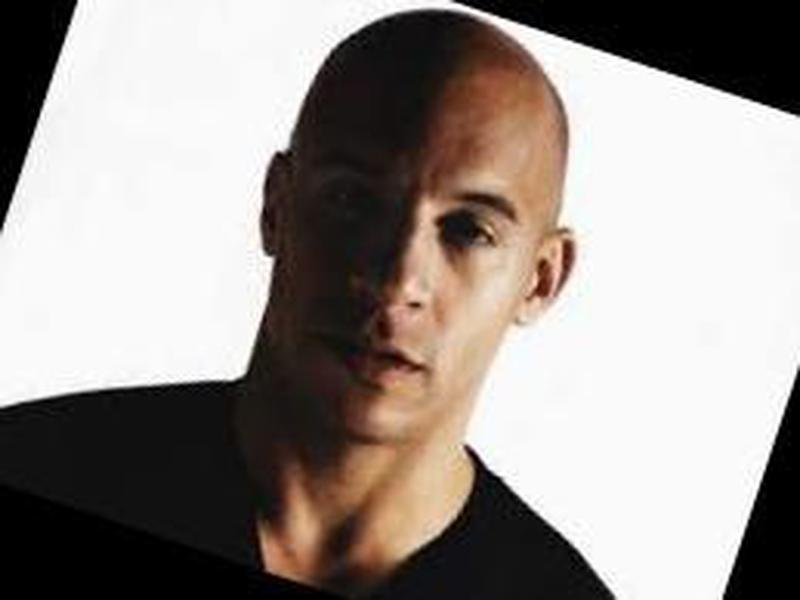without_mask: (263, 25, 536, 448)
